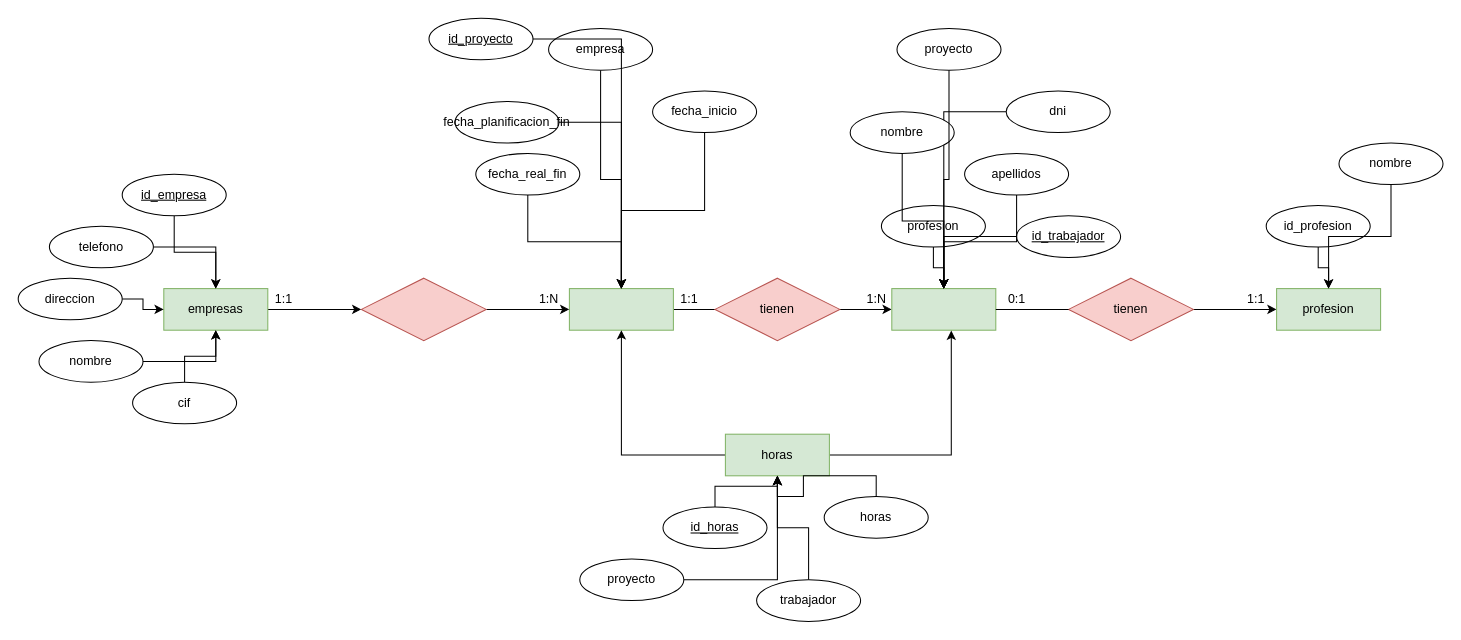
This 1461x640 diagram has some shape labels left out. Here are the shapes that lost their labels. From the top down, the centre of each, then its label:
the point at 423,309: piden
the point at 620,309: proyectos
the point at 943,309: trabajadores
